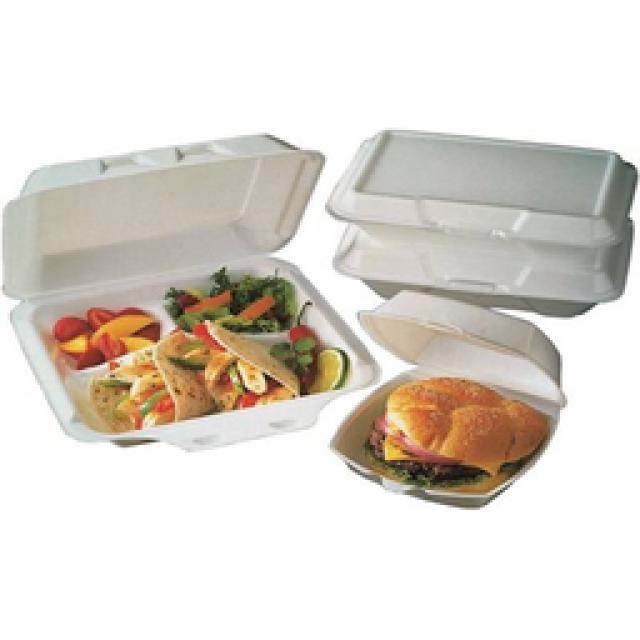styrofoam: (2, 135, 370, 448), (325, 130, 635, 432)
